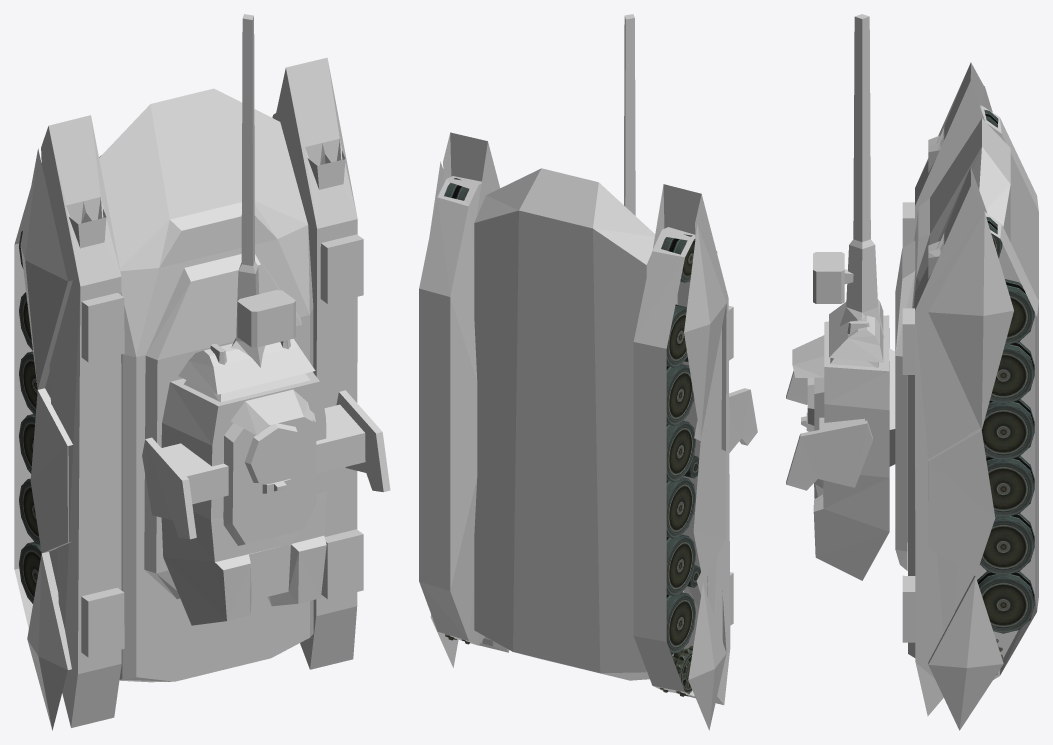
3 renders of one model, left to right at view 1: azimuth 30°, elevation 25°; view 2: azimuth 150°, elevation 25°; view 3: azimuth 270°, elevation 25°, orthographic. The views are drawn at different scales.
Parts seen in each view (by area): view 1: hull, turret_01, gun_01, chassis_track_L, chassis_wheel_L_07, chassis_wheel_L_04, chassis_wheel_L_06, chassis_wheel_L_05; view 2: hull, chassis_track_R, chassis_track_L, gun_01, chassis_wheel_L_06, chassis_wheel_L_05, chassis_wheel_L_04, chassis_wheel_L_07, chassis_wheel_L_03, turret_01, chassis_wheel_L_02, chassis_wheel_L_01 (+1 smaller); view 3: hull, turret_01, gun_01, chassis_track_R, chassis_track_L, chassis_wheel_R_07, chassis_wheel_R_04, chassis_wheel_R_06, chassis_wheel_R_05, chassis_wheel_R_03, chassis_wheel_R_02.
Boxes of the visible parts, x1,y1,x2,y2 form: hull: (20,57,363,730); turret_01: (142,371,390,625); gun_01: (178,14,315,394); chassis_track_L: (14,188,33,628); chassis_wheel_L_07: (19,542,41,603); chassis_wheel_L_04: (19,351,37,416); chassis_wheel_L_06: (19,478,40,544); chassis_wheel_L_05: (19,414,35,473); hull: (429,132,733,730); chassis_track_R: (419,176,484,645); chassis_track_L: (633,227,698,696); gun_01: (624,14,635,215); chassis_wheel_L_06: (666,534,695,595); chassis_wheel_L_05: (666,477,695,538); chassis_wheel_L_04: (666,420,695,481); chassis_wheel_L_07: (666,592,695,653); chassis_wheel_L_03: (666,364,694,425); turret_01: (729,388,757,452); chassis_wheel_L_02: (666,304,687,367); chassis_wheel_L_01: (661,234,695,282); hull: (895,62,1013,730); turret_01: (786,315,895,580); gun_01: (813,14,884,362); chassis_track_R: (975,211,1038,679); chassis_track_L: (980,105,1038,300); chassis_wheel_R_07: (977,571,1034,633); chassis_wheel_R_04: (981,399,1034,460); chassis_wheel_R_06: (979,513,1034,575); chassis_wheel_R_05: (986,456,1034,517); chassis_wheel_R_03: (990,341,1034,403); chassis_wheel_R_02: (1005,279,1034,345).
Size of the model in its own units: 3.49 by 7.68 by 2.7.
2 materials, 1 textured.
